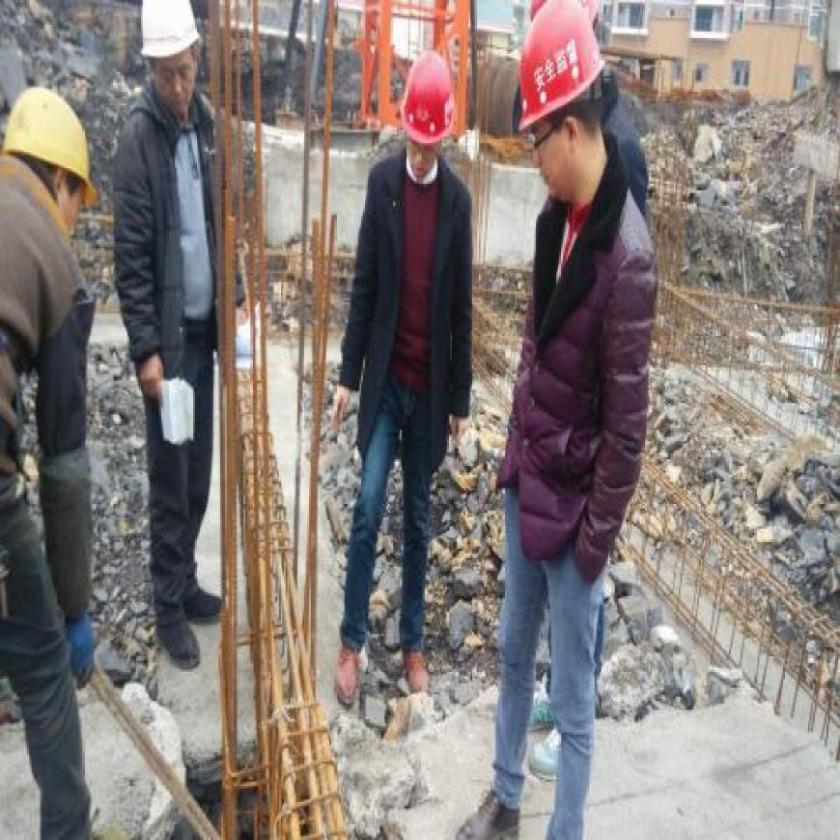Con_casco: (499, 0, 654, 210), (4, 82, 100, 239), (137, 0, 206, 117), (401, 50, 457, 190)
